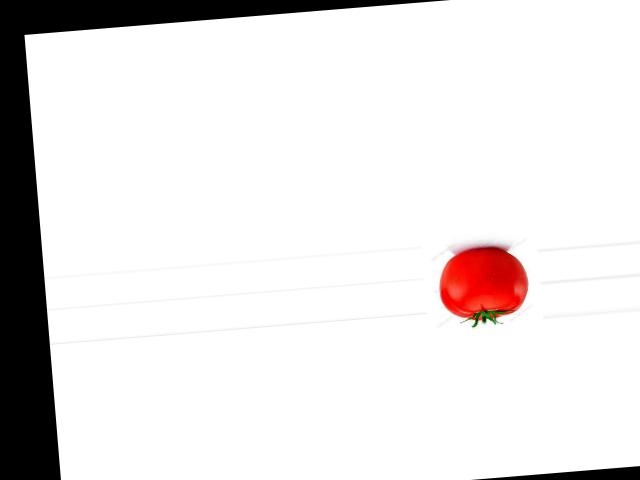tomato: (436, 246, 530, 322)
